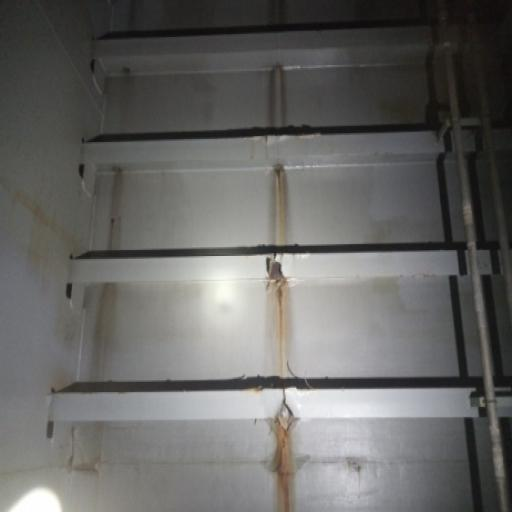Detect-rust-on-metal-surfaces: (263, 255, 302, 369), (269, 395, 307, 511), (261, 57, 296, 133), (260, 156, 292, 239)
